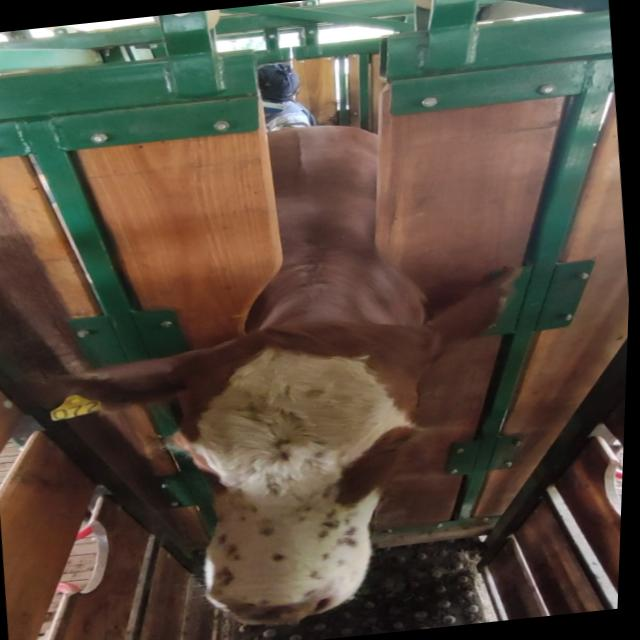cowFace: (152, 314, 434, 634)
